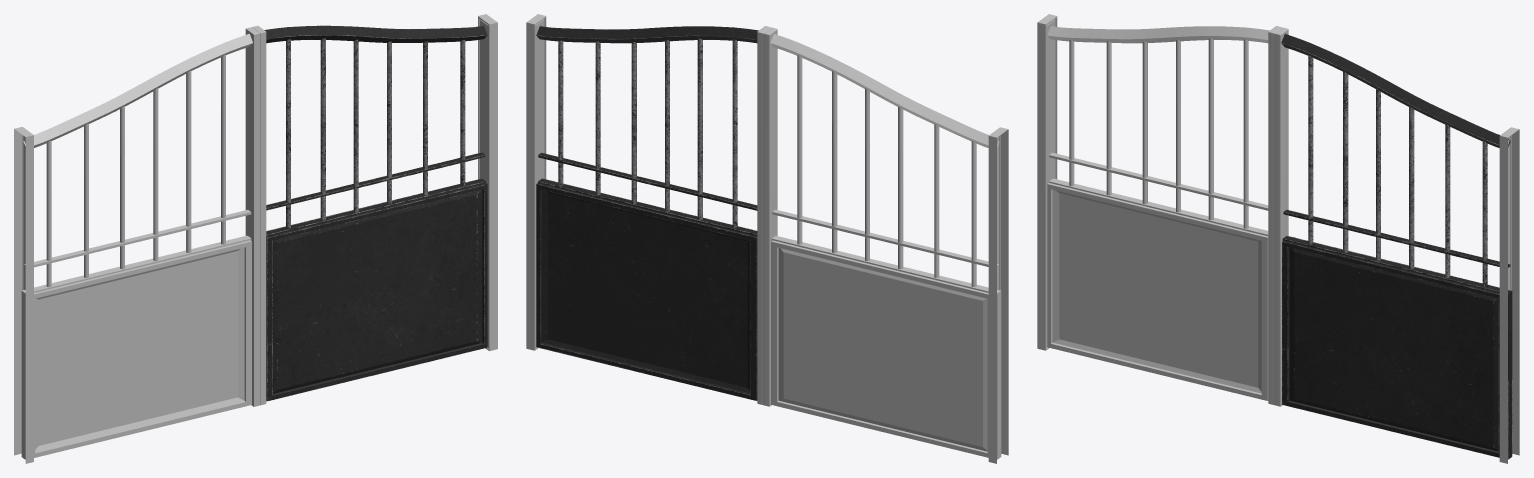
The model's file is verjaDefinitiva.fbx.
3 renders of one model, left to right at view 1: azimuth 30°, elevation 25°; view 2: azimuth 150°, elevation 25°; view 3: azimuth 330°, elevation 25°, orthographic.
Parts seen in each view (by area): view 1: LeftPart, RightPart, Pivot.001, Pivot; view 2: LeftPart, RightPart, Pivot.001, Pivot; view 3: RightPart, LeftPart, Pivot, Pivot.001.
Part boxes in pixels (x1,y1,x2,y2): LeftPart: (21, 33, 252, 459); RightPart: (264, 25, 487, 401); Pivot.001: (14, 27, 259, 463); Pivot: (252, 14, 497, 405); LeftPart: (770, 34, 1001, 459); RightPart: (536, 26, 758, 400); Pivot.001: (763, 27, 1008, 463); Pivot: (526, 14, 770, 404); RightPart: (1281, 34, 1512, 459); LeftPart: (1047, 26, 1269, 400); Pivot: (1274, 27, 1519, 463); Pivot.001: (1037, 14, 1281, 404).
Bounding box in the file's own units: 485 × 366 × 21.45.
